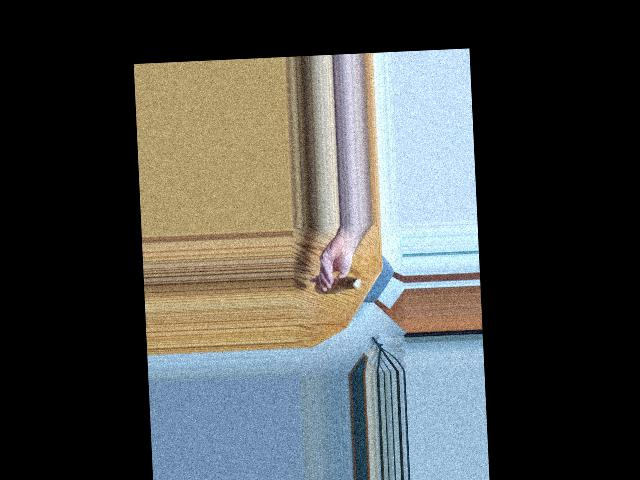sweet_potato: (318, 273, 358, 296)
